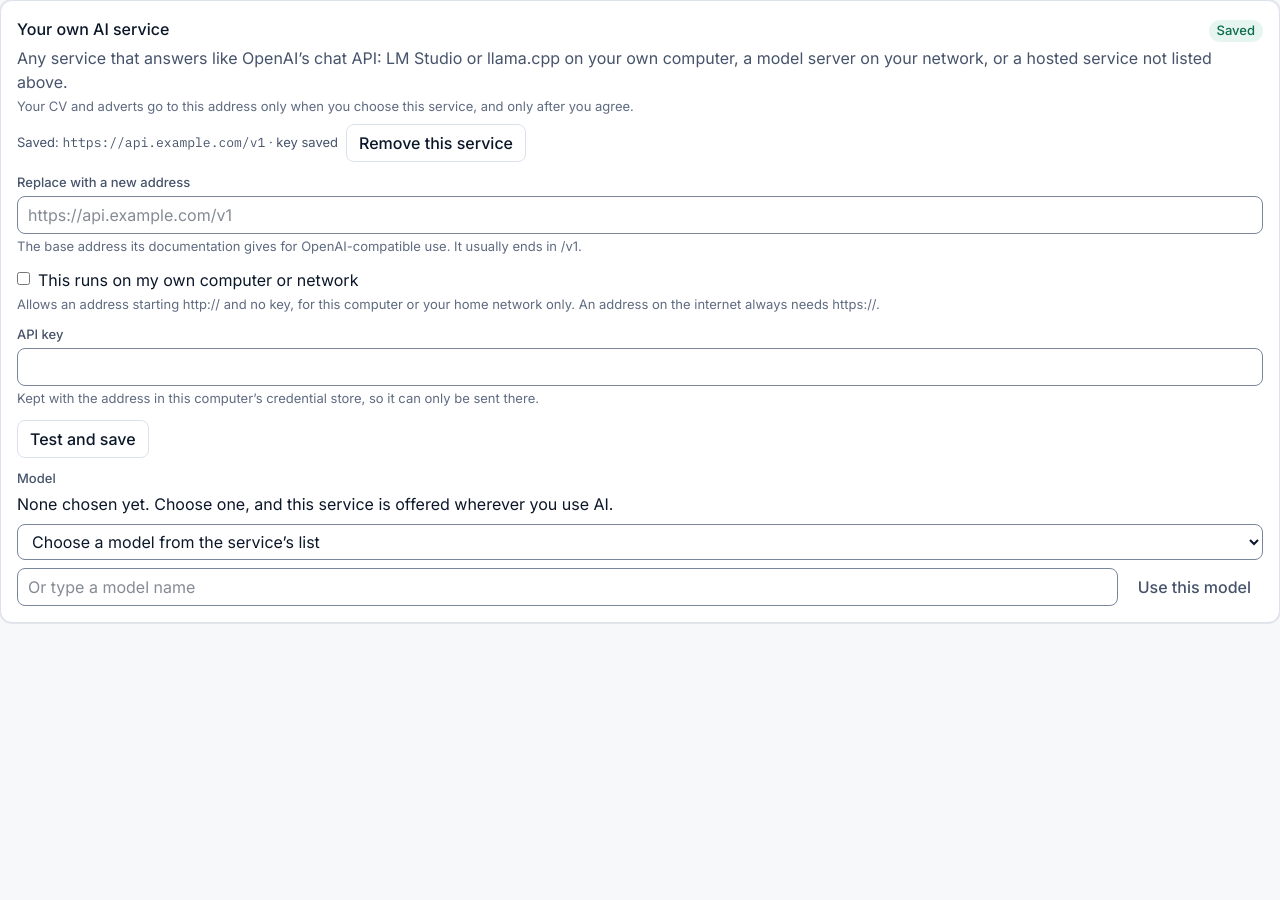
Test: a saved service › remembers the model the user picks, which is what the pickers offer
Select "qwen2.5-7b-instruct" in the dropdown with test id "custom-service-model-select" at (640, 542), box [17,524,1263,560]
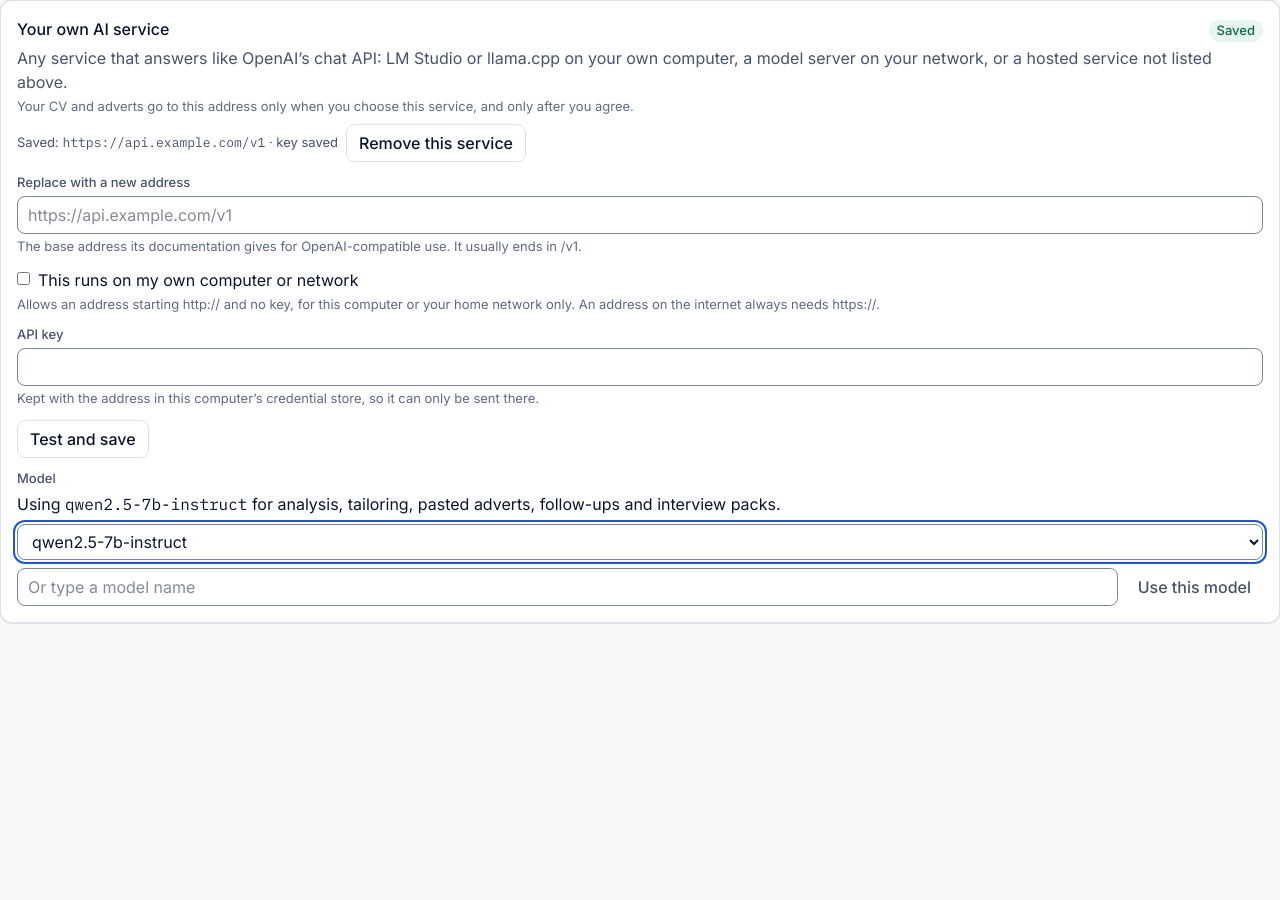
Now the text "qwen2.5-7b-instruct" is shown, box [65,494,247,514]
